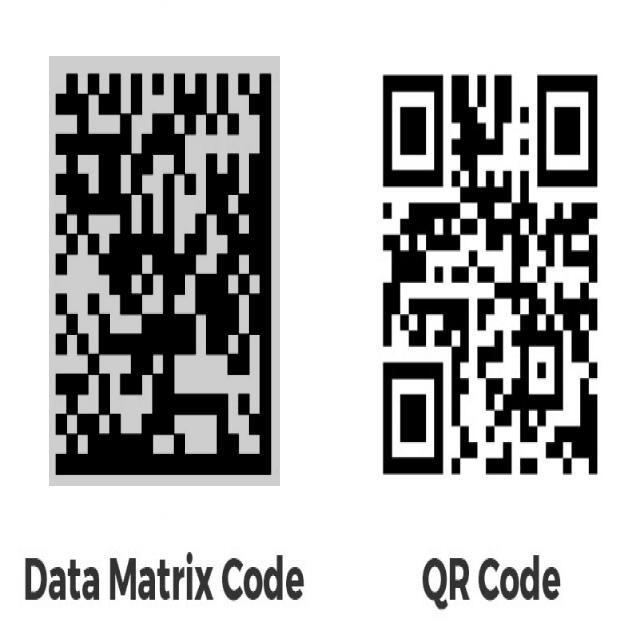DataMatrix: (49, 57, 280, 487)
